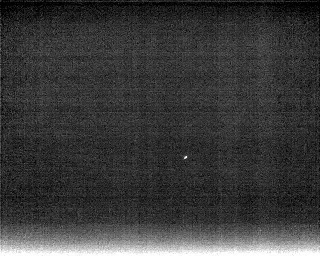BIRD: (181, 153, 190, 163)
